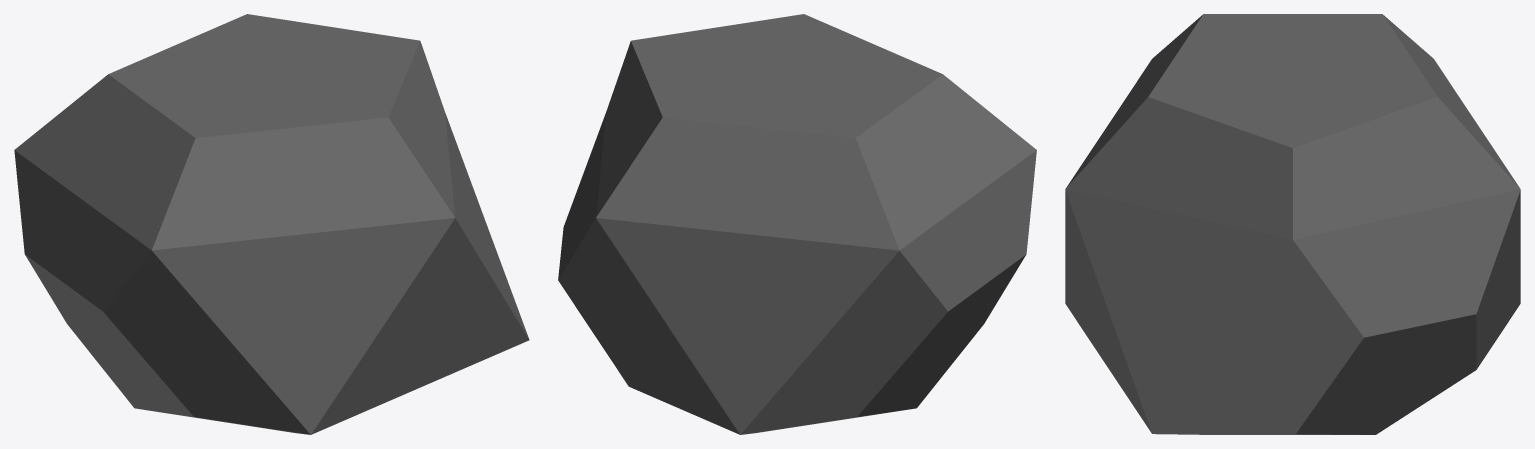
The model's file is Boulder.fbx.
3 renders of one model, left to right at view 1: azimuth 30°, elevation 25°; view 2: azimuth 150°, elevation 25°; view 3: azimuth 270°, elevation 25°, orthographic. The views are drawn at different scales.
Parts seen in each view (by area): view 1: Icosphere; view 2: Icosphere; view 3: Icosphere.
Part boxes in pixels (x1,y1,x2,y2): Icosphere: (14, 14, 529, 434); Icosphere: (558, 14, 1036, 434); Icosphere: (1065, 14, 1520, 434).
Size of the model in its own units: 6.1 by 4.37 by 5.92.
